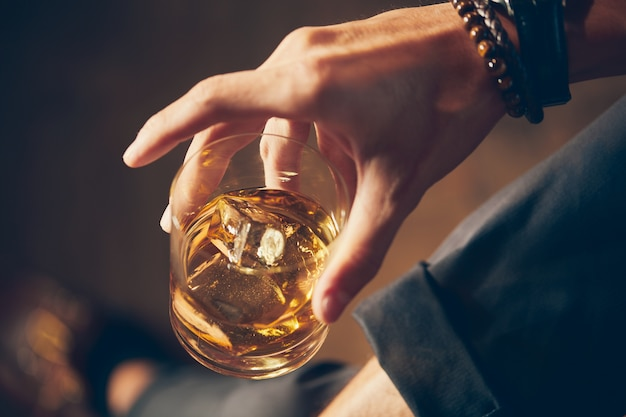alcohol: (168, 132, 350, 381)
